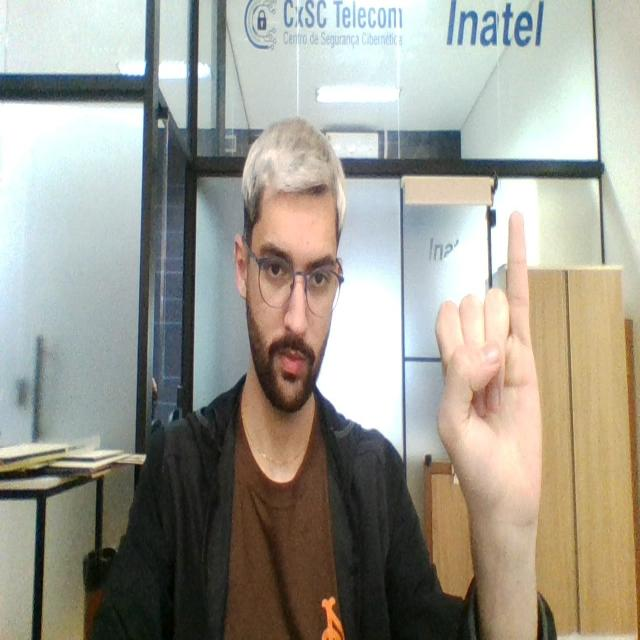I: (431, 206, 545, 514)
